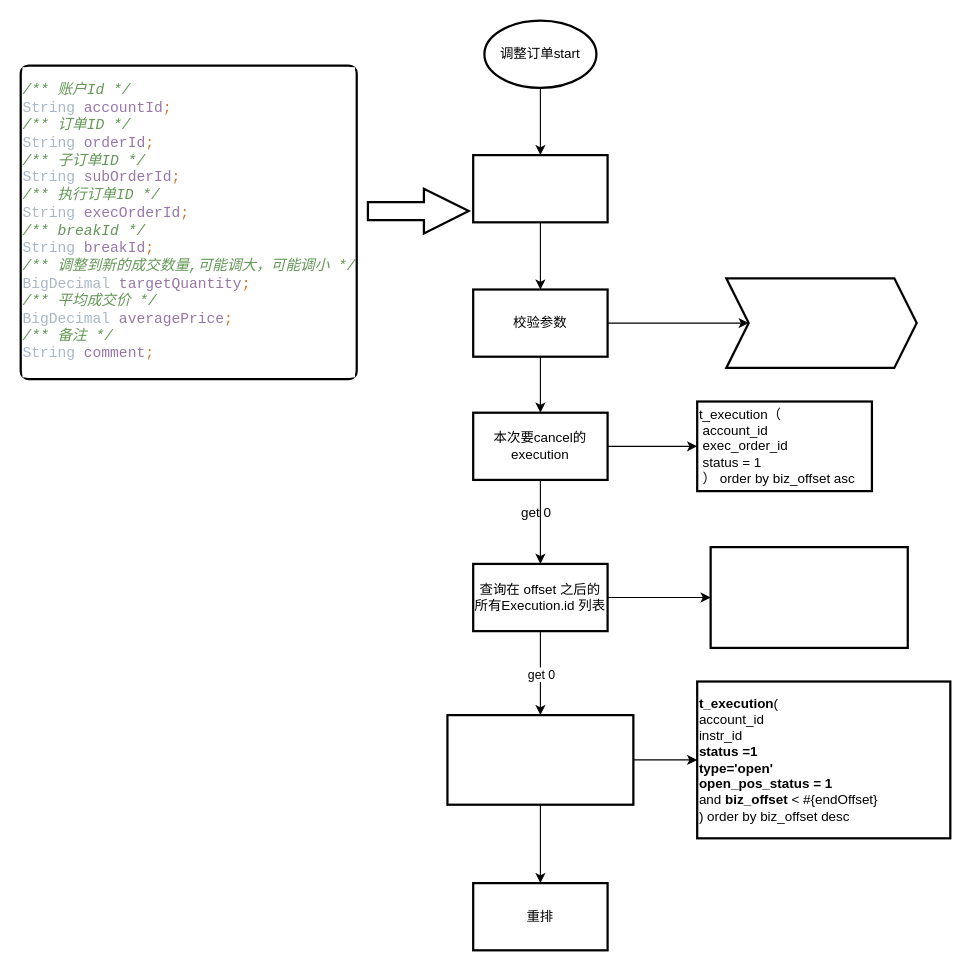
This 970x970 diagram has some shape labels left out. The shapes that lost their labels are listed below. From the top down, each one's centre as x and y in pixels, then its label:
At (x=540, y=188): "进行处理".
At (x=821, y=322): "执行订单 t_exec_order sub订单表 t_sub_order 订单表 t_order 记录是否存在+ 状态".
At (x=808, y=596): "t_execution（ account_id instr_id status = 1 biz_offset >= #{bizOffset} ）".
At (x=540, y=759): "endOffset 之前的所有未平开仓 unCompletedOpenExecutions".
